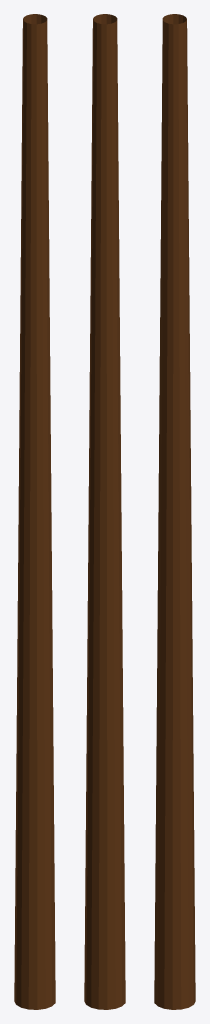
File: woodenStickDark.fbx
3 views of the same model, side by side, from view 1: azimuth 90°, elevation 25°; view 2: azimuth 210°, elevation 25°; view 3: azimuth 270°, elevation 25° (orthographic).
Parts seen in each view (by area): view 1: pilar.000; view 2: pilar.000; view 3: pilar.000.
Part boxes in pixels (x1,y1,x2,y2): pilar.000: (14,14,55,1009); pilar.000: (84,14,125,1009); pilar.000: (154,14,195,1009).
Size of the model in its own units: 36.72 by 958 by 36.52.
